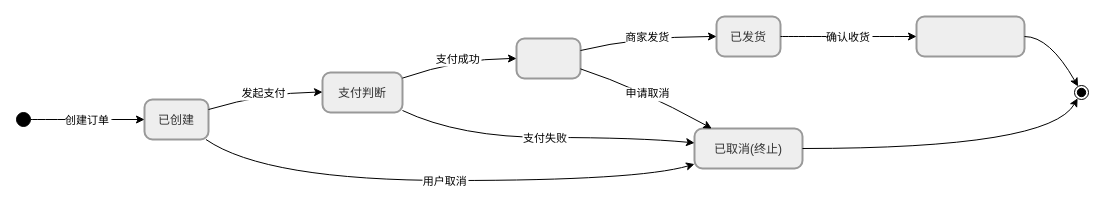
Some shapes in this 1105 by 204 pixel diagram are drawn without their labels. The shapes that lost their labels are listed below. From the top down, each one's box as (x1, y1, x2, y2) in pixels, then its label:
(915, 15, 1025, 57): 已完成(终止)
(515, 37, 581, 79): 已支付
